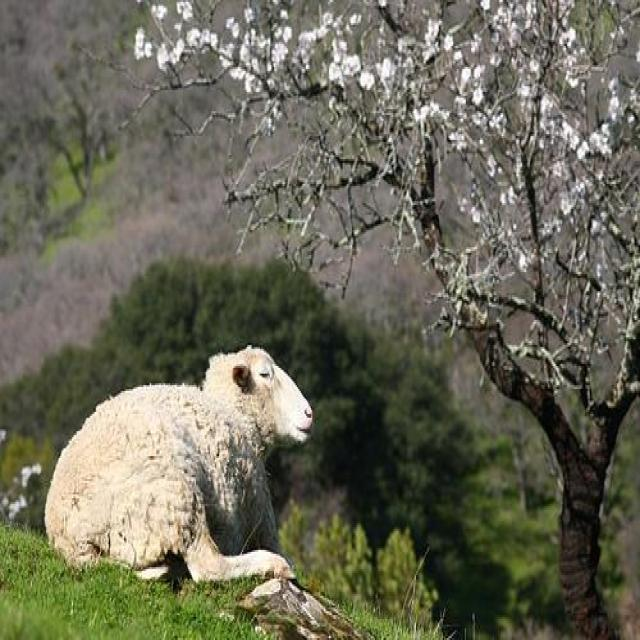Sheep: (46, 341, 314, 592)
